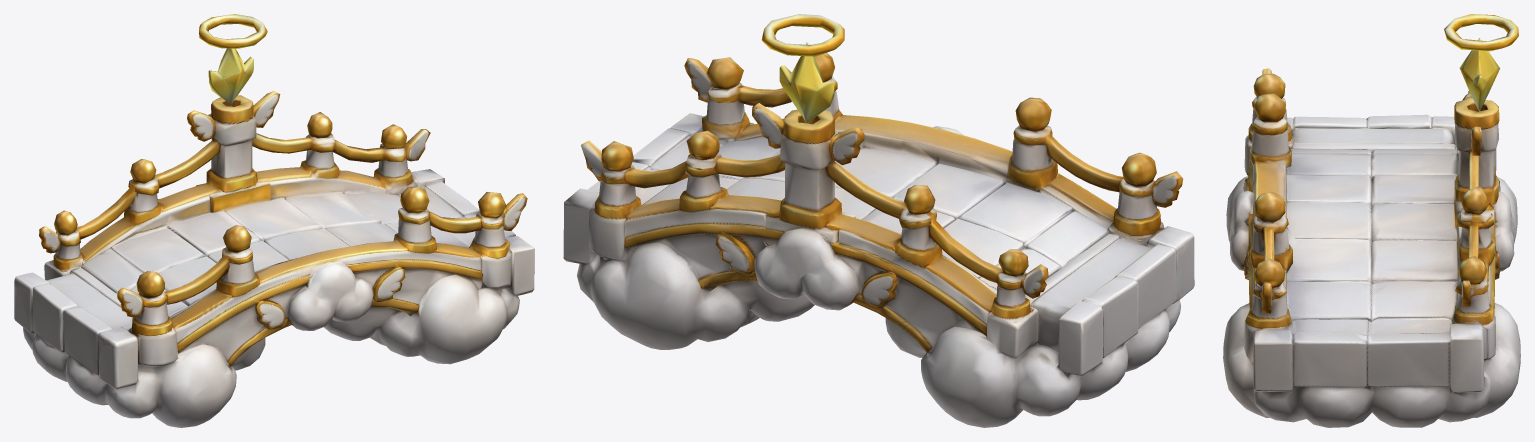
The model's file is Town_Halo_Bridge_fixed.glb.
3 views of the same model, side by side, from view 1: azimuth 30°, elevation 25°; view 2: azimuth 150°, elevation 25°; view 3: azimuth 270°, elevation 25° (orthographic). The views are drawn at different scales.
Parts seen in each view (by area): view 1: tripo_node_d37e6cf1-23c4-42eb-97f5-d8a26a0ec7c8; view 2: tripo_node_d37e6cf1-23c4-42eb-97f5-d8a26a0ec7c8; view 3: tripo_node_d37e6cf1-23c4-42eb-97f5-d8a26a0ec7c8.
Boxes of the visible parts, x1,y1,x2,y2 form: tripo_node_d37e6cf1-23c4-42eb-97f5-d8a26a0ec7c8: (14, 14, 534, 427); tripo_node_d37e6cf1-23c4-42eb-97f5-d8a26a0ec7c8: (563, 14, 1194, 427); tripo_node_d37e6cf1-23c4-42eb-97f5-d8a26a0ec7c8: (1223, 14, 1520, 427).
Bounding box in the file's own units: 0.9807 × 0.63 × 0.5317.
Materials: 1 (1 with a texture image).
